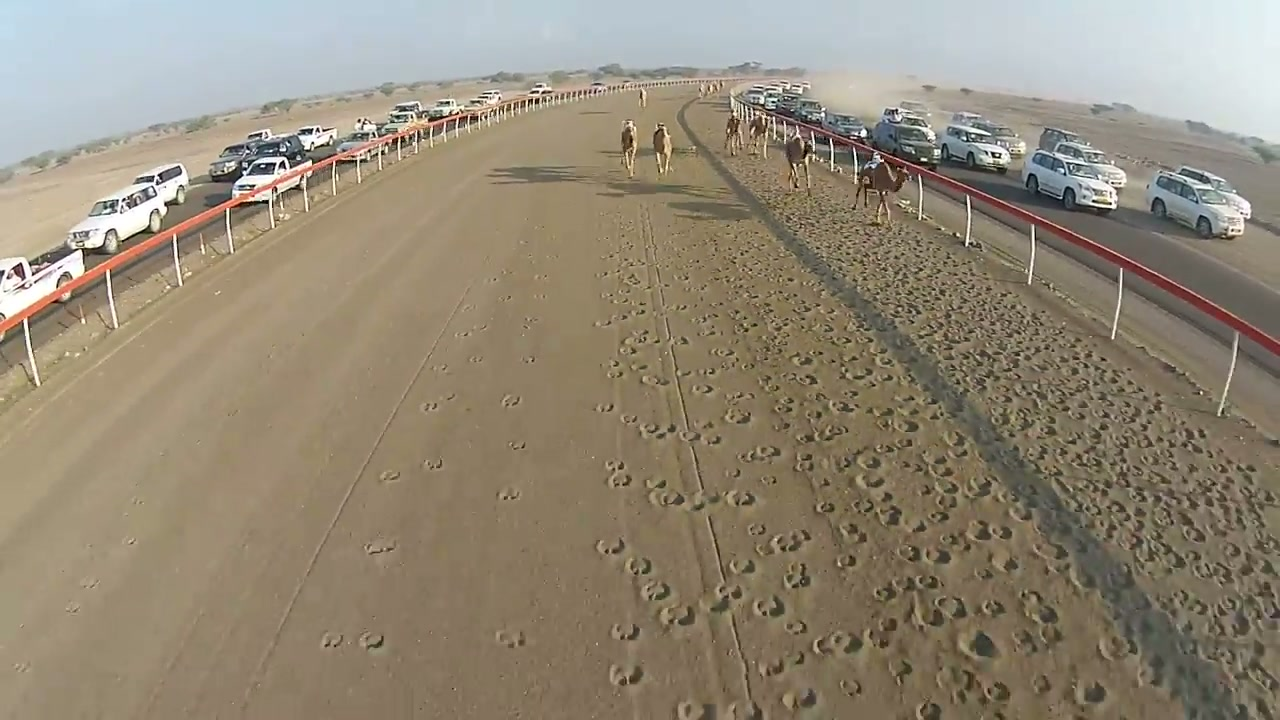animal_footprint: (697, 238, 1116, 667), (894, 303, 1122, 468), (935, 663, 979, 705), (756, 650, 807, 678), (758, 529, 811, 555), (812, 630, 862, 657), (702, 583, 744, 613), (959, 630, 999, 659), (930, 595, 968, 621), (1098, 634, 1136, 660), (658, 605, 695, 628), (781, 688, 817, 711), (1074, 681, 1107, 705), (783, 562, 811, 590), (752, 595, 786, 618), (682, 490, 719, 511), (981, 680, 1011, 705), (609, 664, 643, 686), (676, 700, 715, 719), (888, 659, 914, 687), (419, 393, 455, 413), (640, 579, 671, 602), (648, 488, 685, 507), (726, 701, 764, 719), (739, 446, 781, 462), (862, 627, 892, 649), (837, 522, 867, 544), (854, 472, 888, 491), (363, 537, 396, 555), (724, 489, 757, 507), (495, 629, 526, 648), (610, 622, 641, 641), (623, 556, 652, 576), (639, 424, 676, 439), (358, 632, 385, 652), (913, 700, 941, 719), (606, 469, 633, 488), (596, 538, 625, 555), (727, 558, 756, 575), (1030, 674, 1053, 695), (838, 678, 862, 697), (724, 408, 751, 424), (605, 360, 625, 379), (835, 553, 857, 570), (783, 620, 807, 635), (497, 486, 521, 501), (321, 632, 343, 648), (641, 374, 669, 386), (697, 433, 722, 446), (644, 475, 667, 489), (814, 500, 836, 514), (677, 429, 700, 442), (422, 457, 443, 471), (691, 383, 715, 395), (378, 470, 400, 483), (747, 522, 766, 536), (79, 576, 99, 589), (12, 661, 32, 674), (501, 394, 520, 407), (419, 401, 439, 413), (619, 413, 639, 425), (64, 601, 81, 614), (759, 475, 778, 486), (595, 402, 614, 412), (508, 440, 526, 450), (431, 364, 448, 373), (130, 495, 145, 505), (121, 536, 136, 546), (459, 303, 474, 312), (469, 354, 483, 363), (485, 276, 500, 283), (499, 294, 512, 302), (522, 355, 535, 363), (532, 293, 545, 299)
